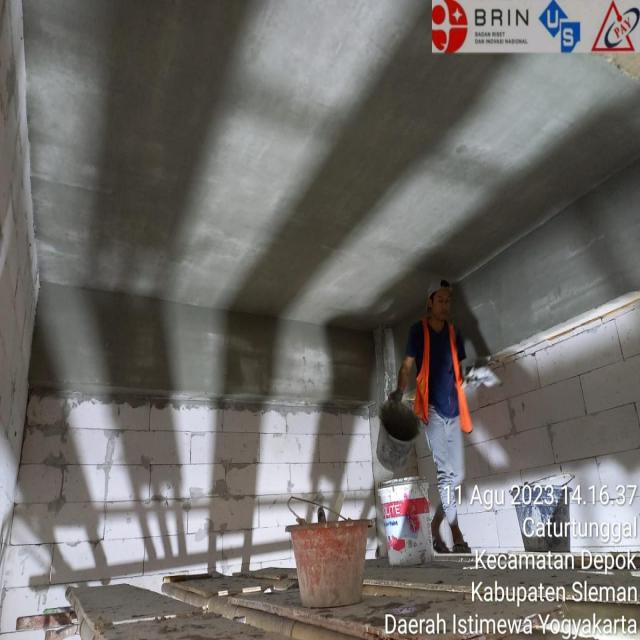Helmet: (422, 270, 462, 334)
Safety Vest: (404, 316, 502, 431)
